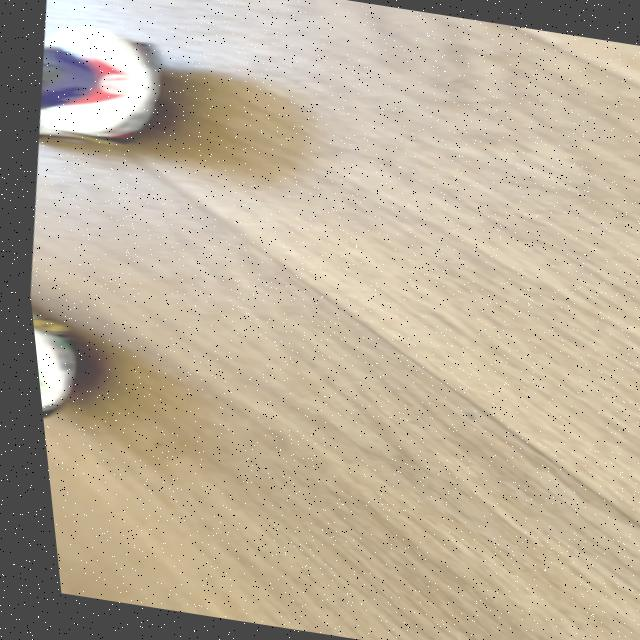mario: (24, 17, 201, 176)
yoshi: (21, 259, 116, 441)
